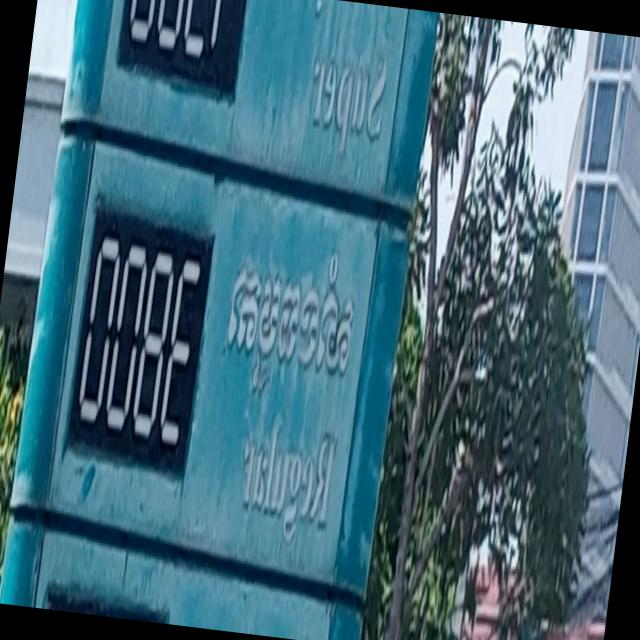733: (57, 188, 213, 493)
Yolov11_80vkh: (208, 216, 365, 423)
